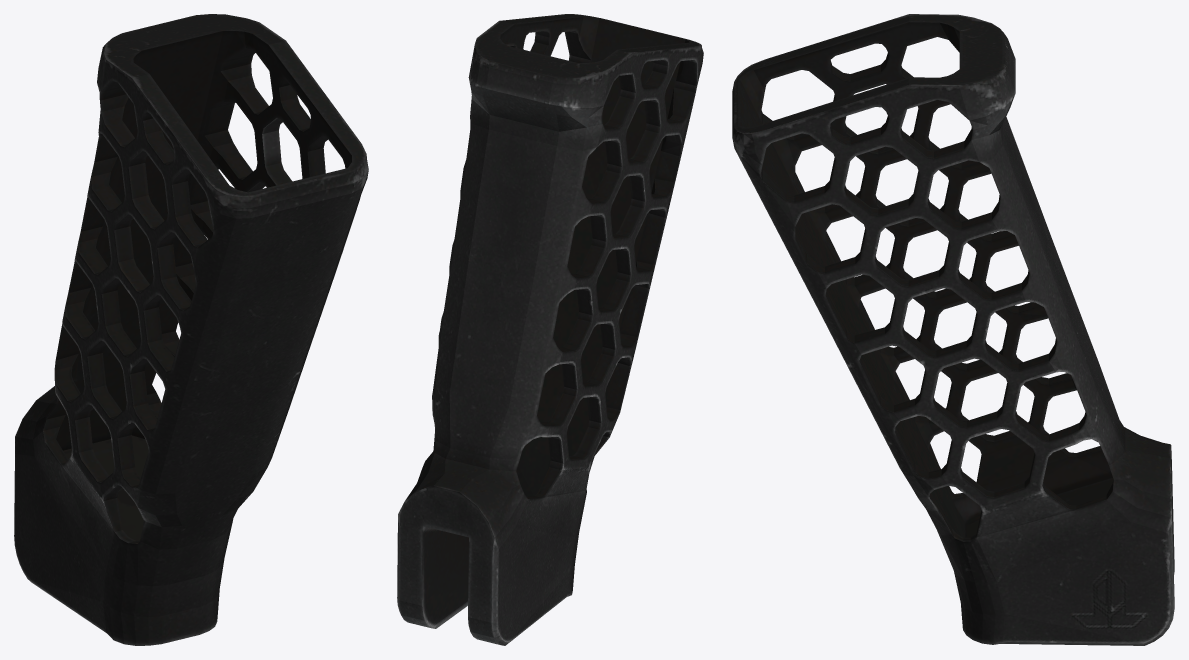
3 renders of one model, left to right at view 1: azimuth 30°, elevation 25°; view 2: azimuth 150°, elevation 25°; view 3: azimuth 270°, elevation 25°, orthographic. The views are drawn at different scales.
Visible parts, largest first — view 1: TW_615d8faecabb9b7ad90f4d5d_PZ_Import; view 2: TW_615d8faecabb9b7ad90f4d5d_PZ_Import; view 3: TW_615d8faecabb9b7ad90f4d5d_PZ_Import.
Boxes of the visible parts, box(x1,y1,x2,y2) form: TW_615d8faecabb9b7ad90f4d5d_PZ_Import: box(14, 14, 368, 645); TW_615d8faecabb9b7ad90f4d5d_PZ_Import: box(397, 14, 703, 645); TW_615d8faecabb9b7ad90f4d5d_PZ_Import: box(732, 14, 1174, 645).
Bounding box in the file's own units: 0.0176 × 0.0461 × 0.0659.
1 material, 1 textured.
